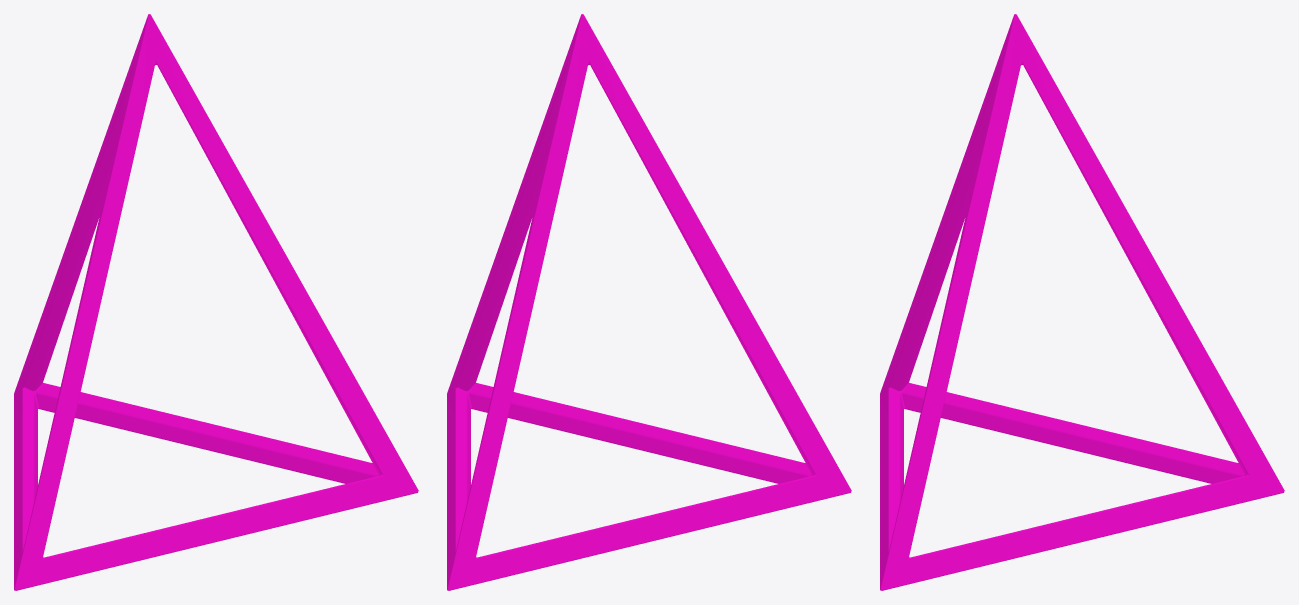
The model's file is cone-violet.glb.
3 views of the same model, side by side, from view 1: azimuth 30°, elevation 25°; view 2: azimuth 150°, elevation 25°; view 3: azimuth 270°, elevation 25° (orthographic).
Parts seen in each view (by area): view 1: Cone-green; view 2: Cone-green; view 3: Cone-green.
Part boxes in pixels (x1,y1,x2,y2): Cone-green: [14, 14, 418, 590]; Cone-green: [447, 14, 851, 590]; Cone-green: [880, 14, 1284, 590].
Size of the model in its own units: 1.86 by 2.1 by 1.61.
